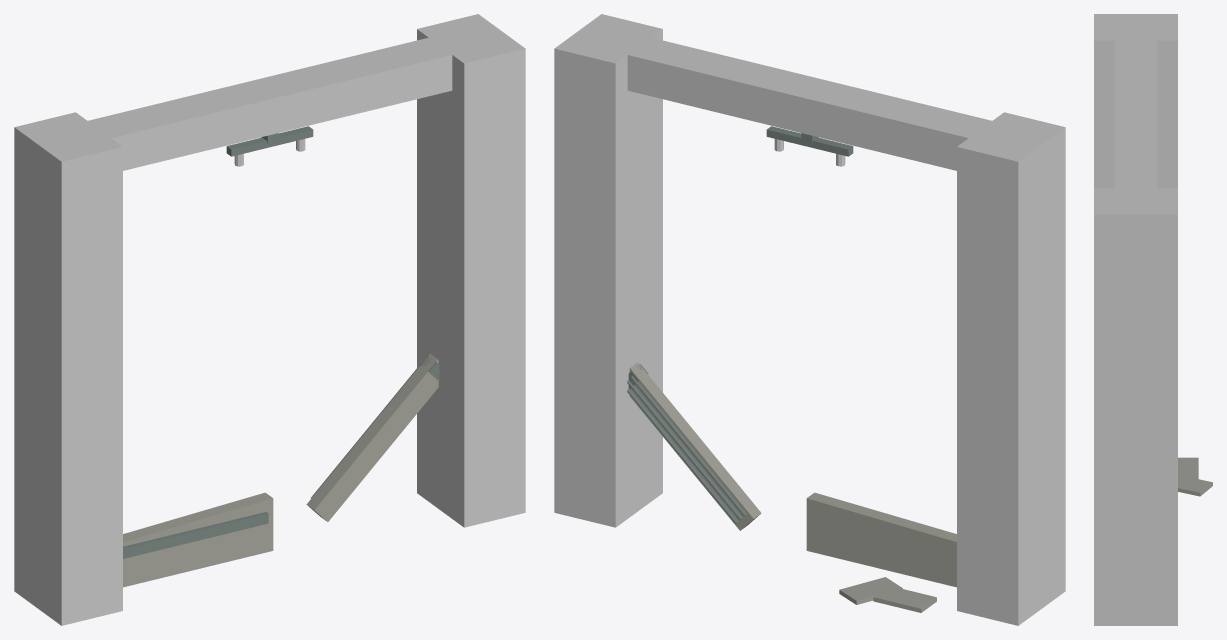
The model's file is SM_PuertaVia_v4_Blindada_e2_MuyDanado_LOD0.fbx.
3 views of the same model, side by side, from view 1: azimuth 30°, elevation 25°; view 2: azimuth 150°, elevation 25°; view 3: azimuth 270°, elevation 25° (orthographic). The views are drawn at different scales.
Visible parts, largest first — view 1: SM_bloques.puerta_via_v18_LOD0, Hoja_O, Hoja_E; view 2: SM_bloques.puerta_via_v18_LOD0, Hoja_O, Hoja_E; view 3: SM_bloques.puerta_via_v18_LOD0.
Part boxes in pixels (box(x1,y1,x2,y2)): SM_bloques.puerta_via_v18_LOD0: box(14, 14, 525, 625); Hoja_O: box(123, 492, 273, 587); Hoja_E: box(306, 353, 439, 521); SM_bloques.puerta_via_v18_LOD0: box(554, 14, 1065, 625); Hoja_O: box(806, 492, 956, 587); Hoja_E: box(627, 362, 761, 530); SM_bloques.puerta_via_v18_LOD0: box(1094, 14, 1212, 625).
Bounding box in the file's own units: 6.8 × 6.5 × 1.7.
